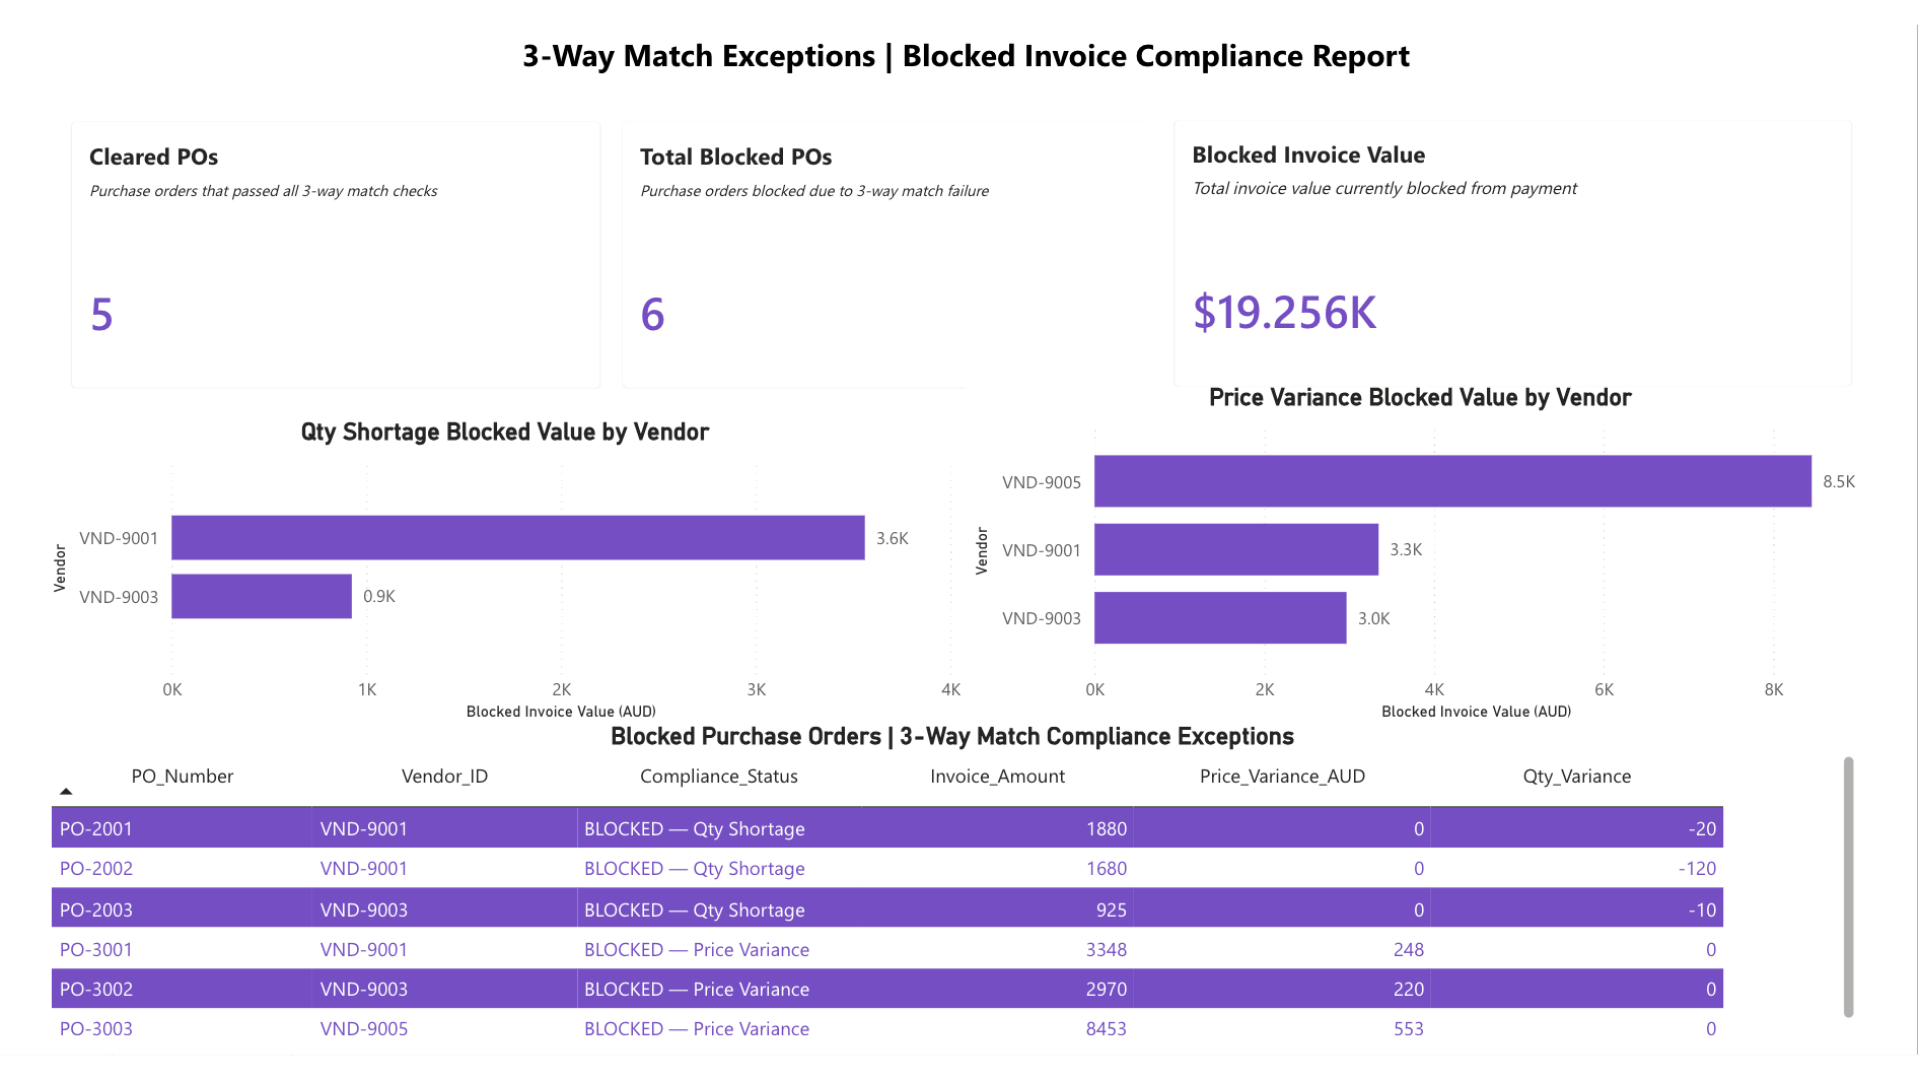

The dashboard page shown, as its layout file describes it:
{"tool":"powerbi","page":{"name":"3-Way Match Exceptions","canvas":[1280,720],"ordinal":2},"visuals":[{"type":"textbox","box":[10.2,0,1269.8,40.6],"z":0},{"type":"cardVisual","fields":{"Rows":["KPI_Table (Match).KPI_name"],"Data":["KPI_Table (Match).Match KPI Value"]},"box":[0,41.9,780.2,237.2],"z":1000},{"type":"clusteredBarChart","title":"Qty Shortage Blocked Value by Vendor","fields":{"Category":["6_3Way_Matching_Matrix.Vendor_ID"],"Y":["Sum(6_3Way_Matching_Matrix.Invoice_Amount)"]},"box":[0,277.1,645.6,213.2],"z":2000},{"type":"tableEx","title":"Blocked Purchase Orders | 3-Way Match Compliance Exceptions","fields":{"Values":["5_Transaction_Log.PO_Number","5_Transaction_Log.Vendor_ID","6_3Way_Matching_Matrix.Compliance_Status","6_3Way_Matching_Matrix.Invoice_Amount","6_3Way_Matching_Matrix.Price_Variance_AUD","6_3Way_Matching_Matrix.Qty_Variance"]},"box":[0,489.8,1271.4,221.4],"z":3000},{"type":"cardVisual","fields":{"Rows":["KPI_Table (Match1).KPI_name"],"Data":["KPI_Table (Match1).Match KPI Value1"]},"box":[771.3,40.6,499.8,237.2],"z":4000},{"type":"clusteredBarChart","title":"Price Variance Blocked Value by Vendor","fields":{"Category":["6_3Way_Matching_Matrix.Vendor_ID"],"Y":["Sum(6_3Way_Matching_Matrix.Invoice_Amount)"]},"box":[645.6,252.8,634.9,237.5],"z":5000}]}

Visuals, with their boxes in screenshot pixels (x1, y1, x2, y2), scaled from the page's 1280x720 canvas onto the 1920x1080 screenshot:
textbox: <bbox>15, 0, 1919, 61</bbox>
cardVisual - KPI_Table (Match).KPI_name x KPI_Table (Match).Match KPI Value: <bbox>0, 63, 1170, 419</bbox>
"Qty Shortage Blocked Value by Vendor" clusteredBarChart: <bbox>0, 416, 968, 735</bbox>
"Blocked Purchase Orders | 3-Way Match Compliance Exceptions" tableEx: <bbox>0, 735, 1907, 1067</bbox>
cardVisual - KPI_Table (Match1).KPI_name x KPI_Table (Match1).Match KPI Value1: <bbox>1157, 61, 1907, 417</bbox>
"Price Variance Blocked Value by Vendor" clusteredBarChart: <bbox>968, 379, 1919, 735</bbox>
